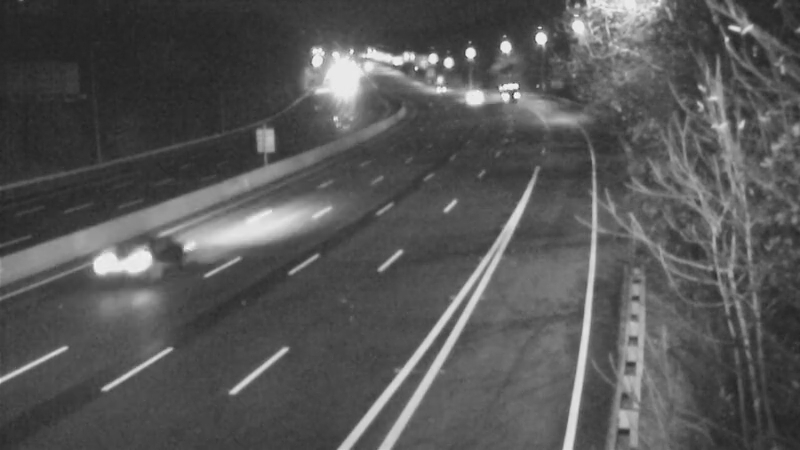vehicle: (84, 215, 164, 295), (411, 63, 461, 113), (476, 66, 526, 116), (445, 71, 495, 121)
